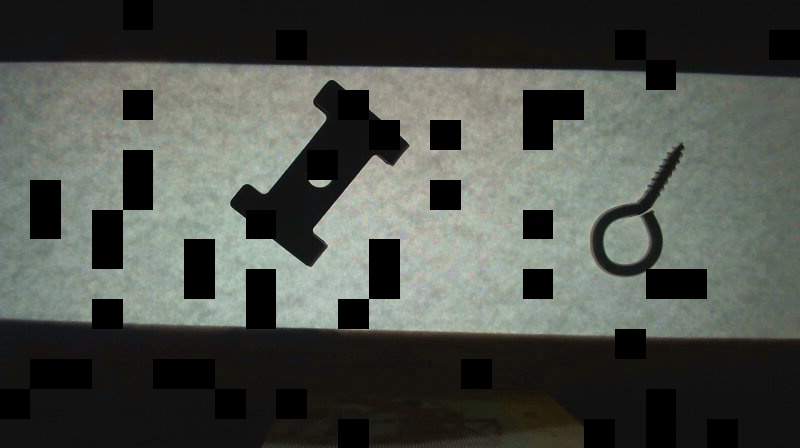O001: (584, 138, 689, 278)
O002: (228, 77, 415, 269)
